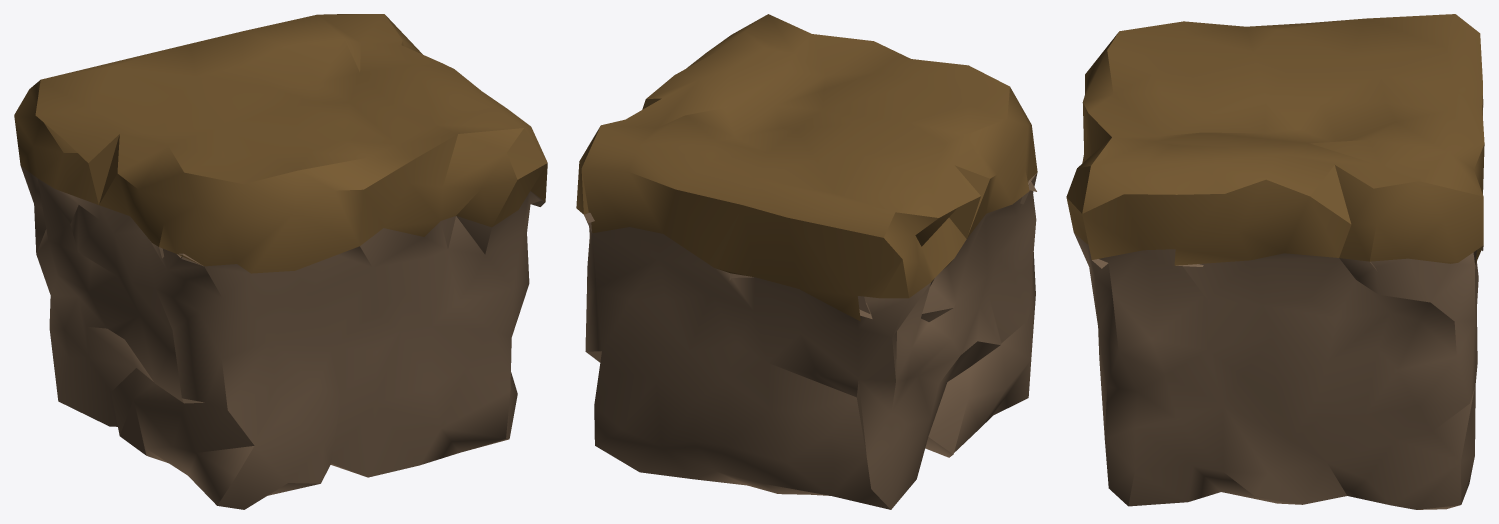
File: BLOQUE_TIERRA.fbx
3 renders of one model, left to right at view 1: azimuth 30°, elevation 25°; view 2: azimuth 150°, elevation 25°; view 3: azimuth 270°, elevation 25°, orthographic. The views are drawn at different scales.
Parts seen in each view (by area): view 1: Tile_Rocky_01.059; view 2: Tile_Rocky_01.059; view 3: Tile_Rocky_01.059.
Part boxes in pixels (x1=…): Tile_Rocky_01.059: x1=14, y1=14, x2=547, y2=509; Tile_Rocky_01.059: x1=576, y1=14, x2=1037, y2=509; Tile_Rocky_01.059: x1=1066, y1=14, x2=1484, y2=509.
Bounding box in the file's own units: 251 × 227 × 235.
